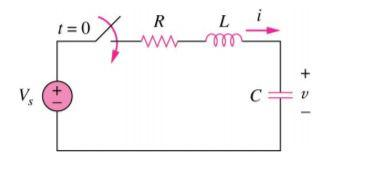Capacitor: (259, 76, 294, 116)
